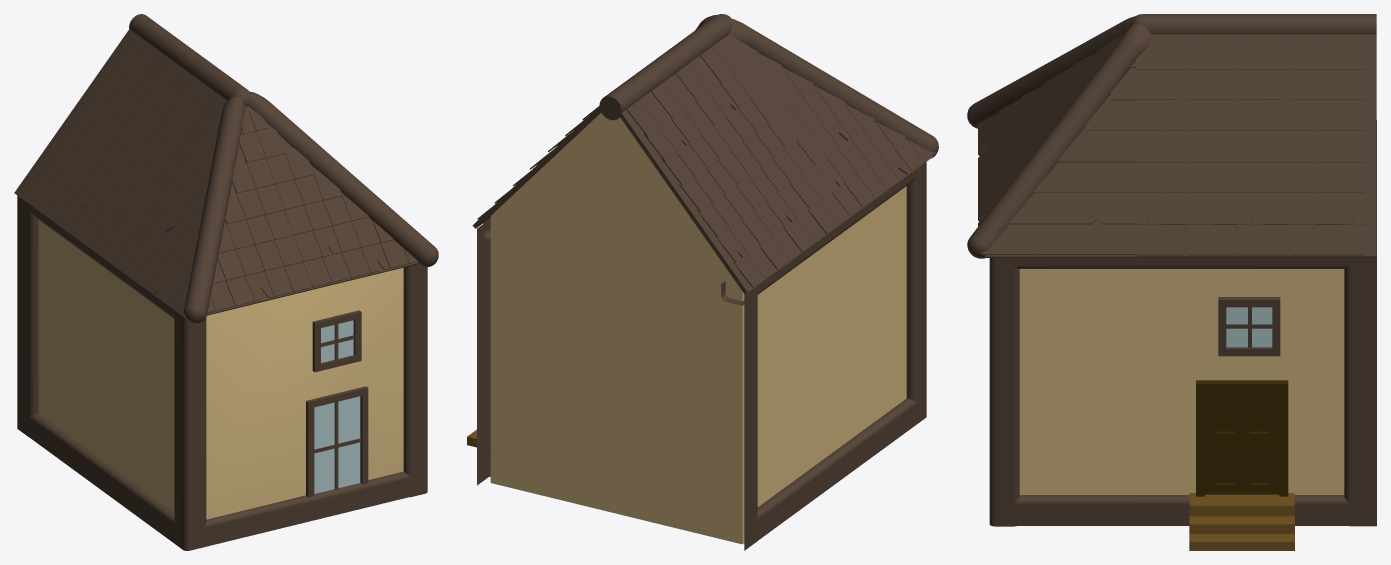
Rendered from House_End.fbx.
The picture shows the model from 3 angles, left to right: view 1: azimuth 30°, elevation 25°; view 2: azimuth 150°, elevation 25°; view 3: azimuth 270°, elevation 25°; orthographic projection. The views are drawn at different scales.
Visible parts, largest first — view 1: pCube1, pCylinder7, pCube305, pCube304, pCube220, pCube302, pCube306, pCube248, pCube272, pCube208, pCube267, pCube275 (+4 smaller); view 2: pCube1, pCube302, pCylinder7, pCube272, pCube208, pCube220, pCube231, pCube217, polySurface189, polySurface5, polySurface25, polySurface65 (+1 smaller); view 3: pCube1, pCube303, pCylinder7, pCube272, pCube248, pCube206, pCube270, polySurface189, pCube304, pCube216, pCube305, pCube236 (+71 smaller).
Boxes of the visible parts, left/top/right/bottom form: pCube1: left=38, top=220, right=403, bottom=519; pCylinder7: left=129, top=14, right=438, bottom=323; pCube305: left=247, top=106, right=418, bottom=289; pCube304: left=207, top=106, right=312, bottom=315; pCube220: left=174, top=311, right=206, bottom=550; pCube302: left=117, top=123, right=219, bottom=317; pCube306: left=203, top=471, right=415, bottom=547; pCube248: left=403, top=264, right=427, bottom=497; pCube272: left=17, top=195, right=38, bottom=436; pCube208: left=28, top=413, right=178, bottom=543; pCube267: left=314, top=396, right=360, bottom=493; pCube275: left=306, top=386, right=368, bottom=497; pCube1: left=490, top=112, right=906, bottom=544; pCube302: left=751, top=48, right=935, bottom=208; pCylinder7: left=599, top=14, right=938, bottom=158; pCube272: left=477, top=219, right=757, bottom=550; pCube208: left=757, top=398, right=921, bottom=540; pCube220: left=906, top=162, right=926, bottom=423; pCube231: left=620, top=110, right=861, bottom=294; pCube217: left=721, top=169, right=917, bottom=305; polySurface189: left=472, top=107, right=600, bottom=228; polySurface5: left=626, top=100, right=659, bottom=136; polySurface25: left=651, top=82, right=684, bottom=118; polySurface65: left=700, top=46, right=733, bottom=82; pCube1: left=1019, top=269, right=1344, bottom=494; pCube303: left=981, top=61, right=1136, bottom=257; pCylinder7: left=967, top=14, right=1376, bottom=258; pCube272: left=1344, top=120, right=1376, bottom=526; pCube248: left=989, top=258, right=1019, bottom=526; pCube206: left=1205, top=392, right=1279, bottom=494; pCube270: left=999, top=495, right=1351, bottom=525; polySurface189: left=1136, top=34, right=1376, bottom=257; pCube304: left=978, top=33, right=1124, bottom=182; pCube216: left=1007, top=258, right=1362, bottom=268; pCube305: left=978, top=40, right=1120, bottom=230; pCube236: left=1189, top=493, right=1294, bottom=516.
Size of the model in its own units: 12.95 by 16.29 by 13.65.
